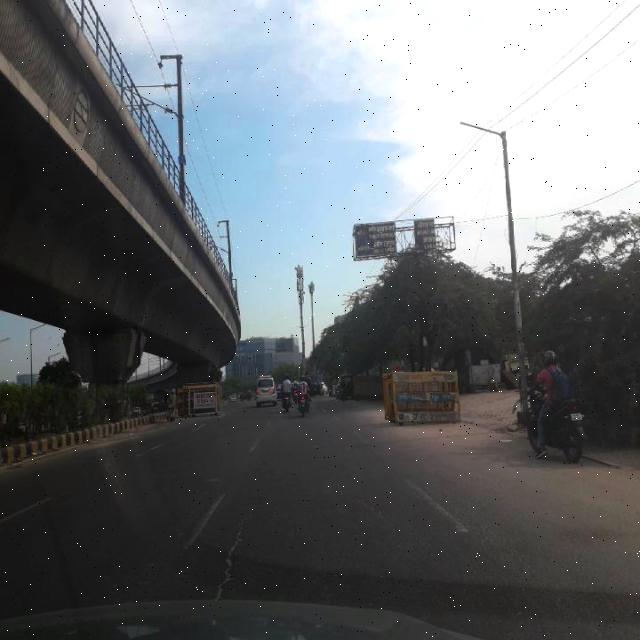D00: (319, 480, 408, 538), (214, 488, 260, 597)
D44: (402, 470, 470, 540), (170, 483, 238, 553)
